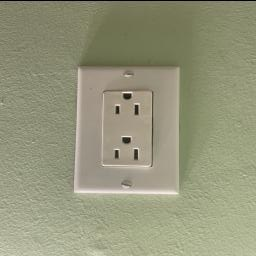outlet: (72, 61, 184, 196)
